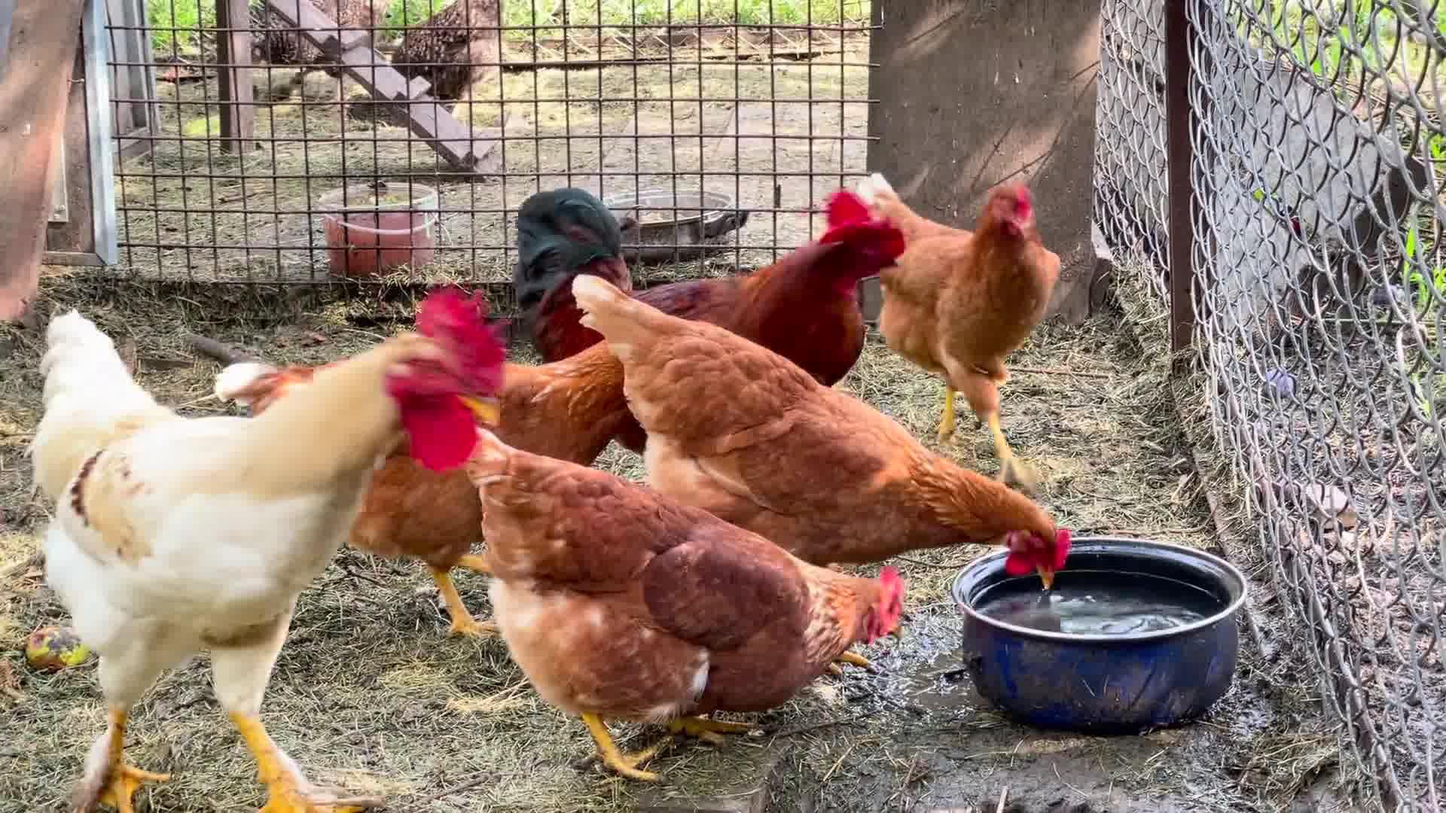Normal: (36, 285, 504, 813), (577, 268, 1078, 595), (473, 426, 921, 783), (503, 185, 905, 447), (870, 158, 1097, 503)
